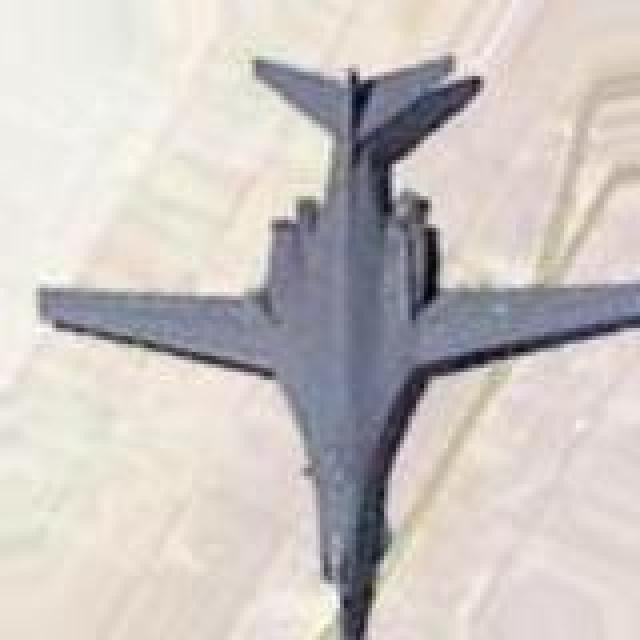B-1_TopDown: (32, 44, 636, 636)
